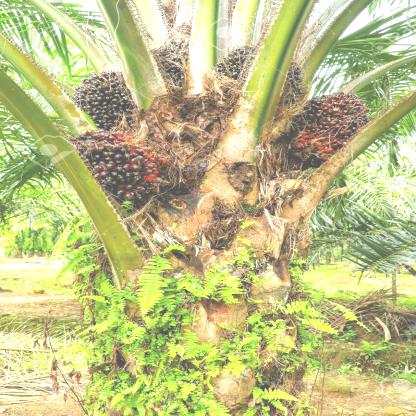1: (66, 127, 170, 199), (297, 89, 373, 161)
palm-oil: (69, 69, 148, 127), (144, 42, 196, 86), (215, 40, 256, 87), (278, 56, 309, 105)
